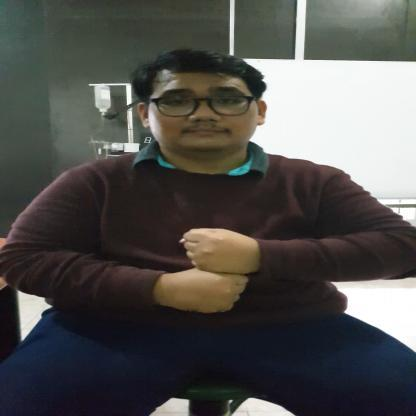G: (154, 227, 262, 316)
